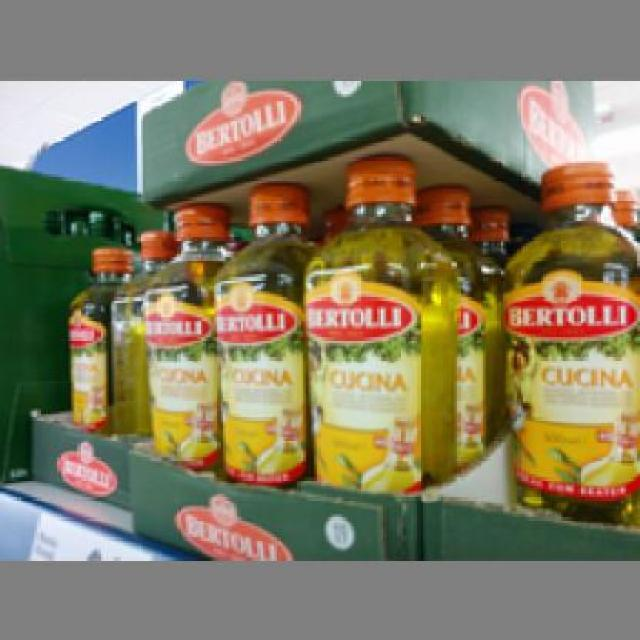Oil: (300, 152, 460, 494), (497, 157, 637, 512), (208, 177, 318, 483), (137, 200, 223, 463)
